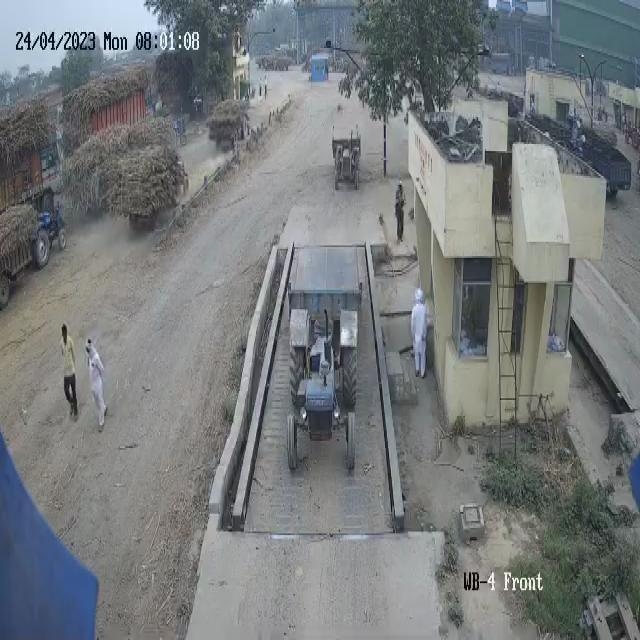Tratores - v5 YOLO V8L 2024-11-13: (271, 305, 370, 482), (31, 186, 70, 270), (331, 141, 364, 197)
